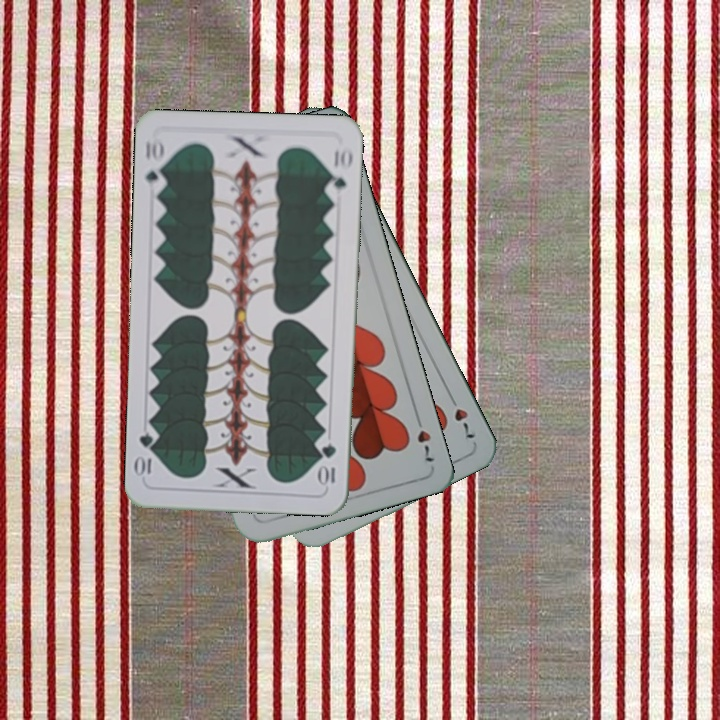G10: (141, 134, 168, 194), (317, 439, 338, 488)
H7: (444, 389, 479, 441), (411, 410, 438, 466)
